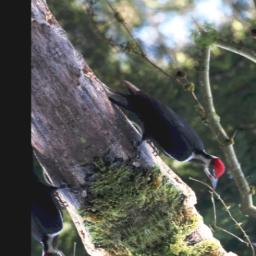Woodpecker: (82, 54, 235, 216)
